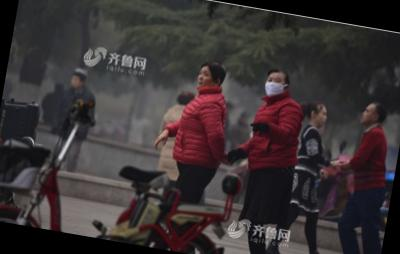with_mask: (262, 73, 287, 99)
without_mask: (195, 66, 217, 91), (359, 104, 375, 125), (314, 109, 330, 127)
